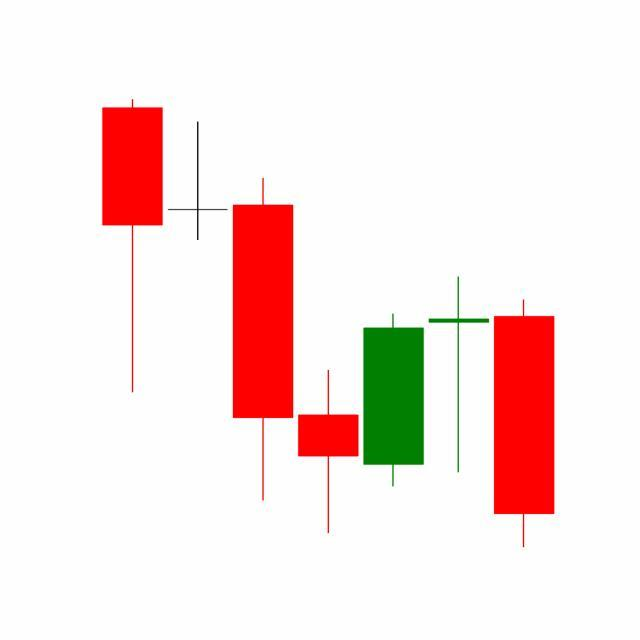Evening Doji Star: (360, 273, 556, 549)
